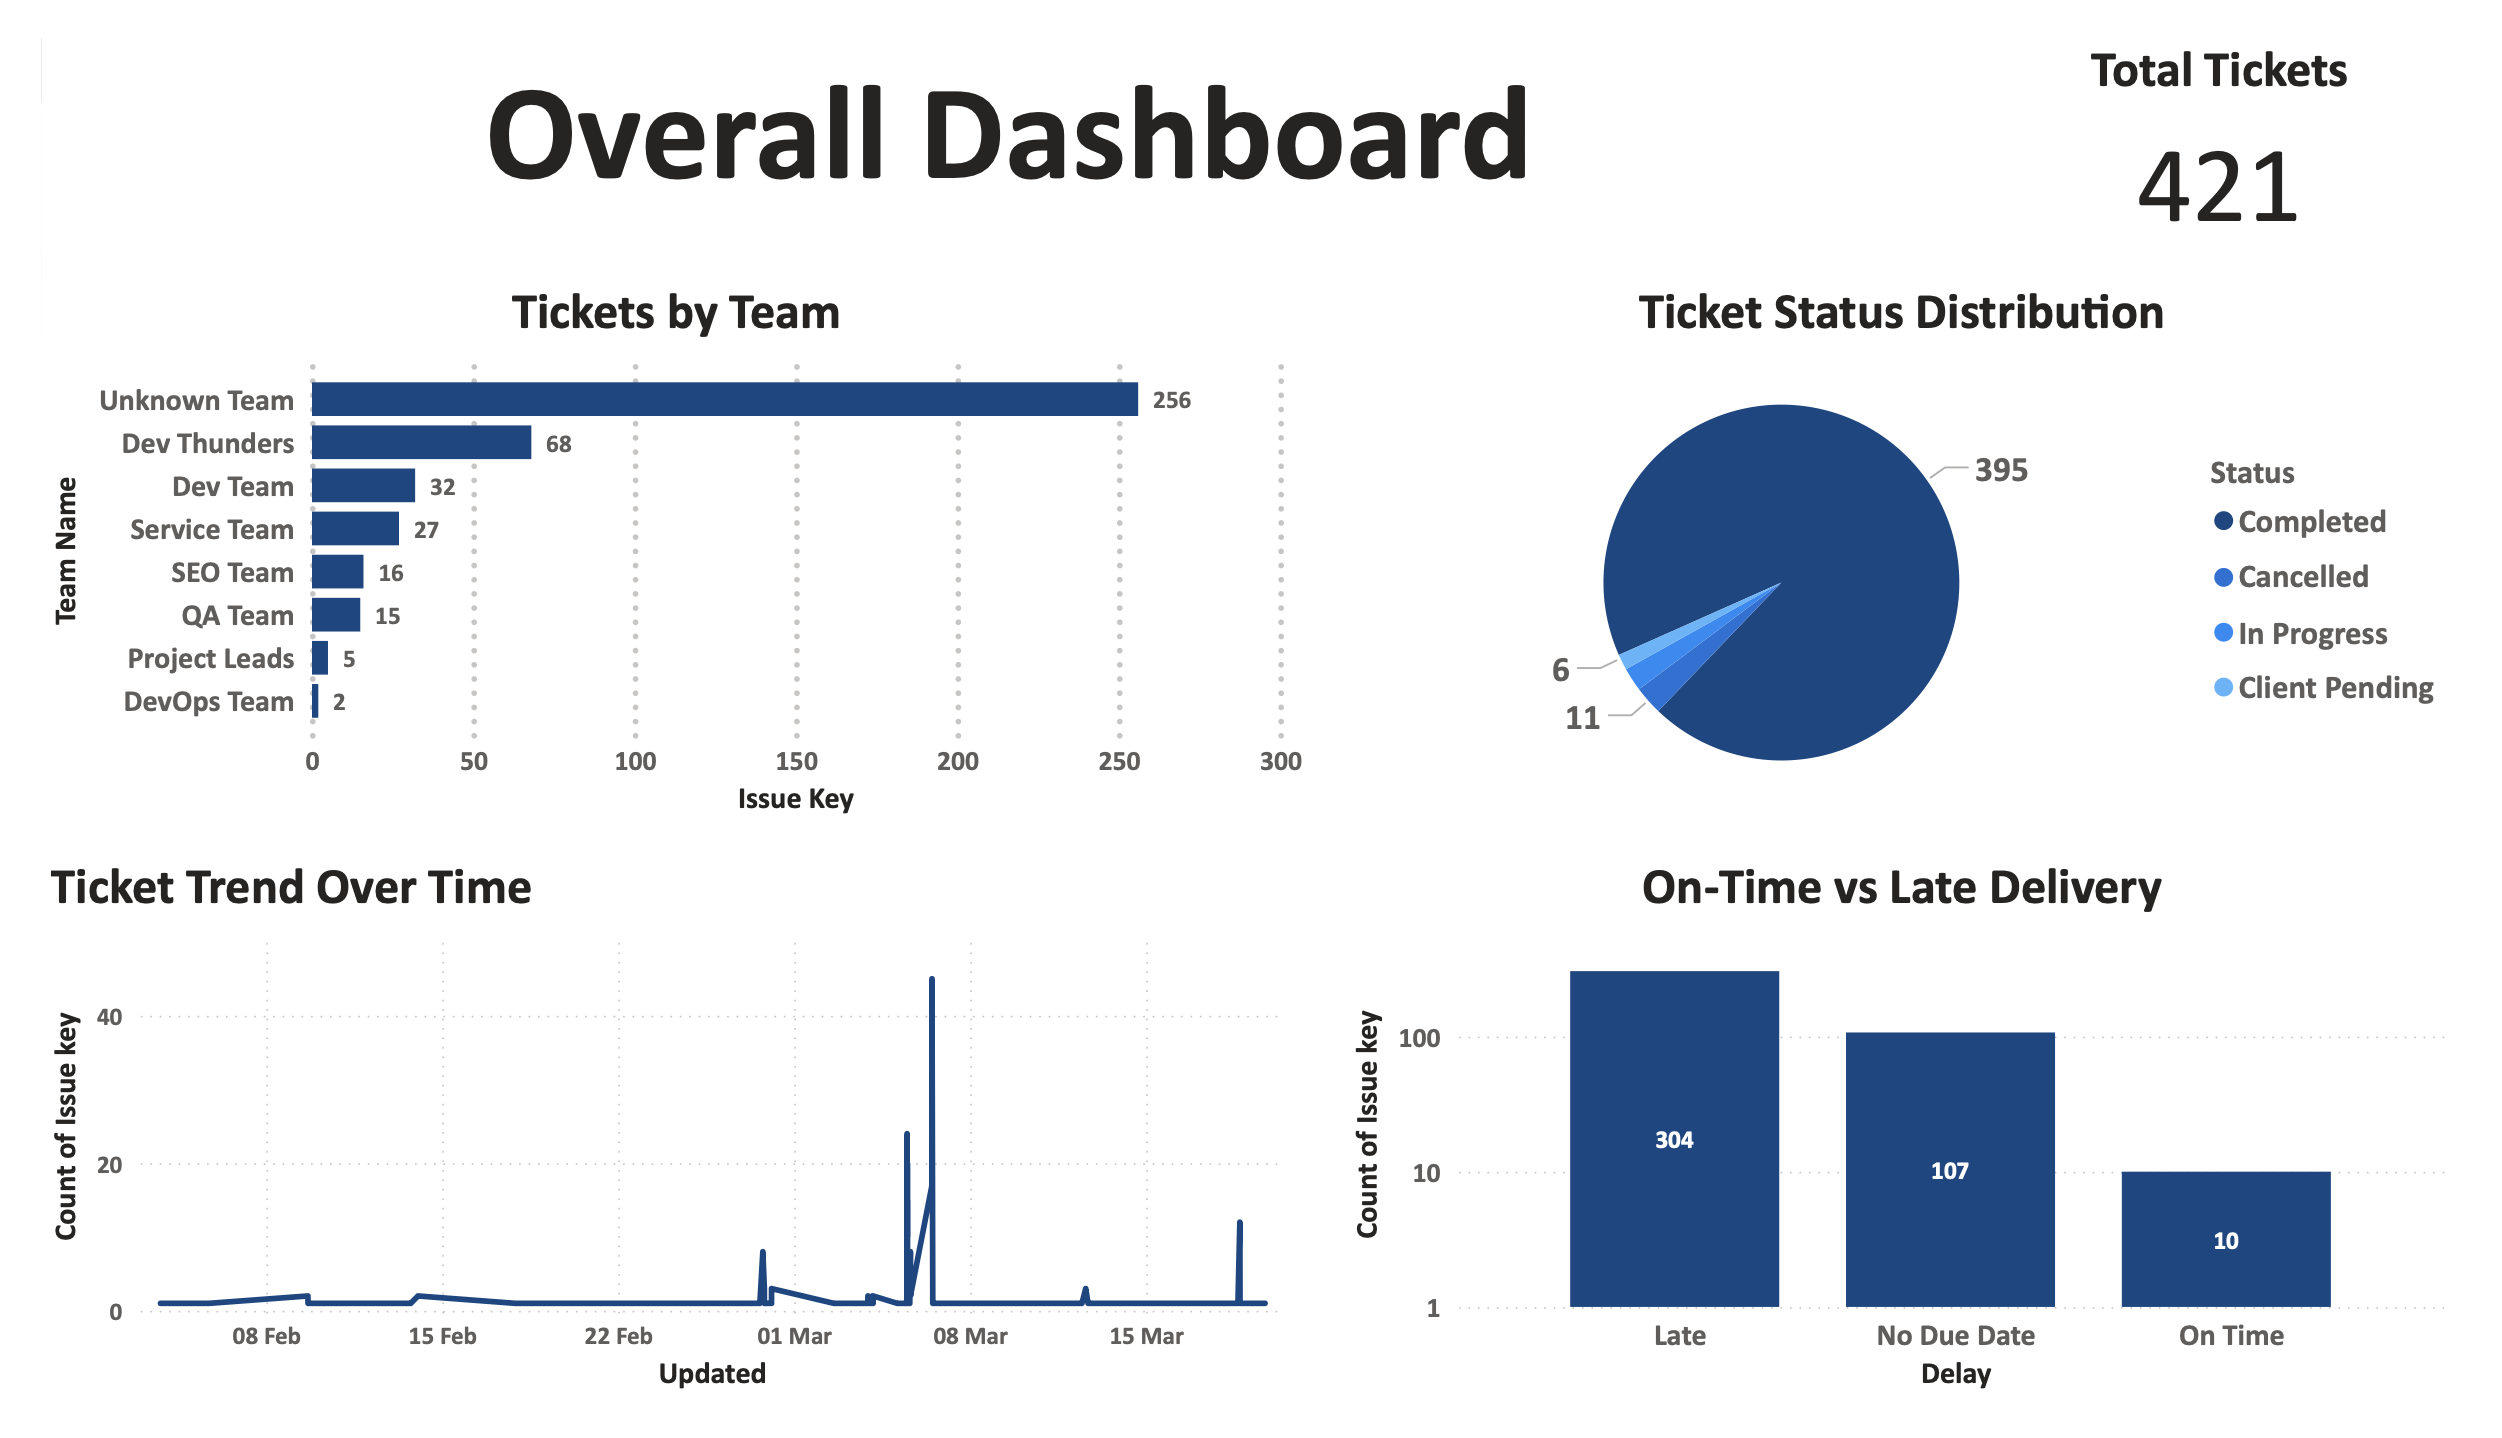

This screenshot's page, from the dashboard's own definition file:
{"tool":"powerbi","page":{"name":"Overall Dashboard","canvas":[1280,720],"ordinal":0},"visuals":[{"type":"card","title":"Total Tickets","fields":{"Values":["Count(Sheet1.Issue key)"]},"box":[1024,0,256,112],"z":0},{"type":"clusteredBarChart","title":"Tickets by Team","fields":{"Category":["Sheet1.Team Name"],"Y":["Count(Sheet1.Issue key)"]},"box":[0,128,672,288],"z":1000},{"type":"pieChart","title":"Ticket Status Distribution","fields":{"Category":["Sheet1.Status Group"],"Y":["Count(Sheet1.Issue key)"]},"box":[688,128,592,288],"z":2000},{"type":"clusteredColumnChart","title":"On-Time vs Late Delivery","fields":{"Category":["Sheet1.Delay"],"Y":["Count(Sheet1.Issue key)"]},"box":[688,432,592,288],"z":3000},{"type":"lineChart","title":"Ticket Trend Over Time","fields":{"Category":["Sheet1.Updated"],"Y":["Count(Sheet1.Issue key)"]},"box":[0,432,672,288],"z":4000},{"type":"textbox","box":[0,0,1024,112],"z":5000}]}

Visuals, with their boxes in screenshot pixels (x1, y1, x2, y2), scaled from the page's 1280x720 canvas onto the 2502x1438 screenshot:
"Total Tickets" card: rect(2002, 0, 2501, 224)
"Tickets by Team" clusteredBarChart: rect(0, 256, 1314, 831)
"Ticket Status Distribution" pieChart: rect(1345, 256, 2501, 831)
"On-Time vs Late Delivery" clusteredColumnChart: rect(1345, 863, 2501, 1437)
"Ticket Trend Over Time" lineChart: rect(0, 863, 1314, 1437)
textbox: rect(0, 0, 2002, 224)
